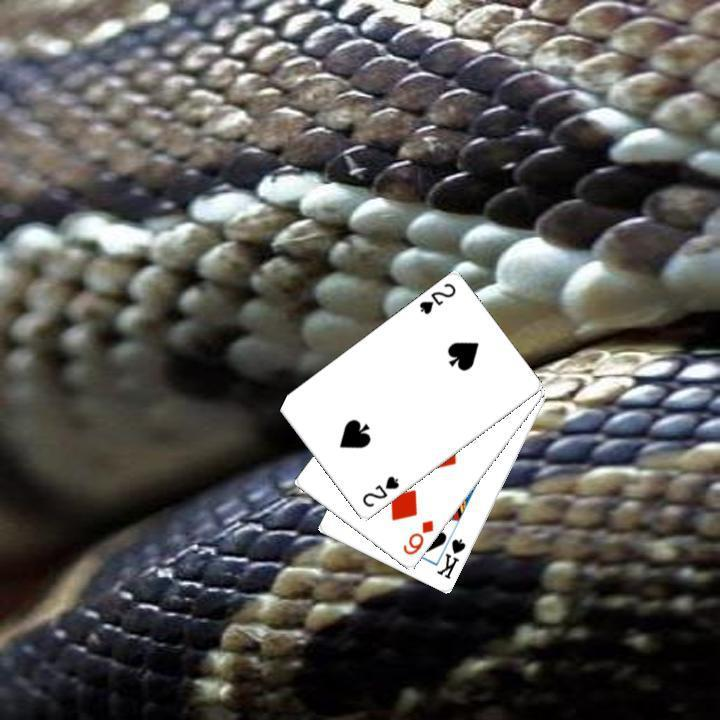2: (358, 472, 401, 510), (415, 279, 458, 317)
6: (398, 516, 436, 558)
K: (432, 534, 468, 582)
